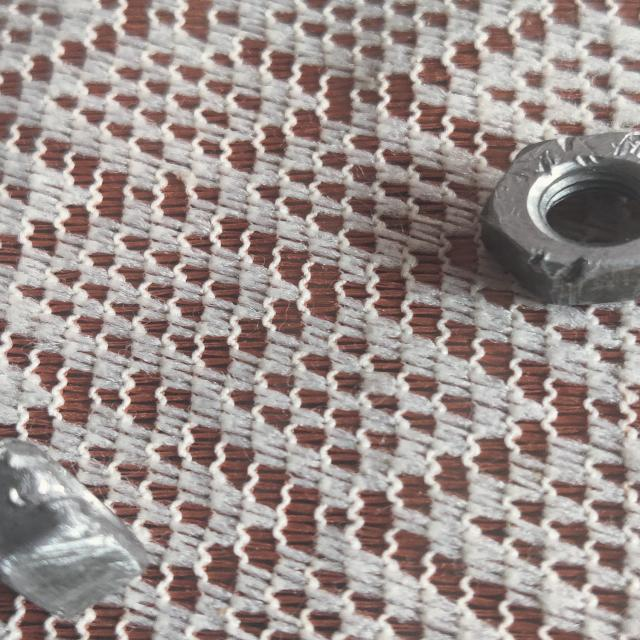infected nut: (480, 132, 640, 305), (0, 440, 150, 618)
